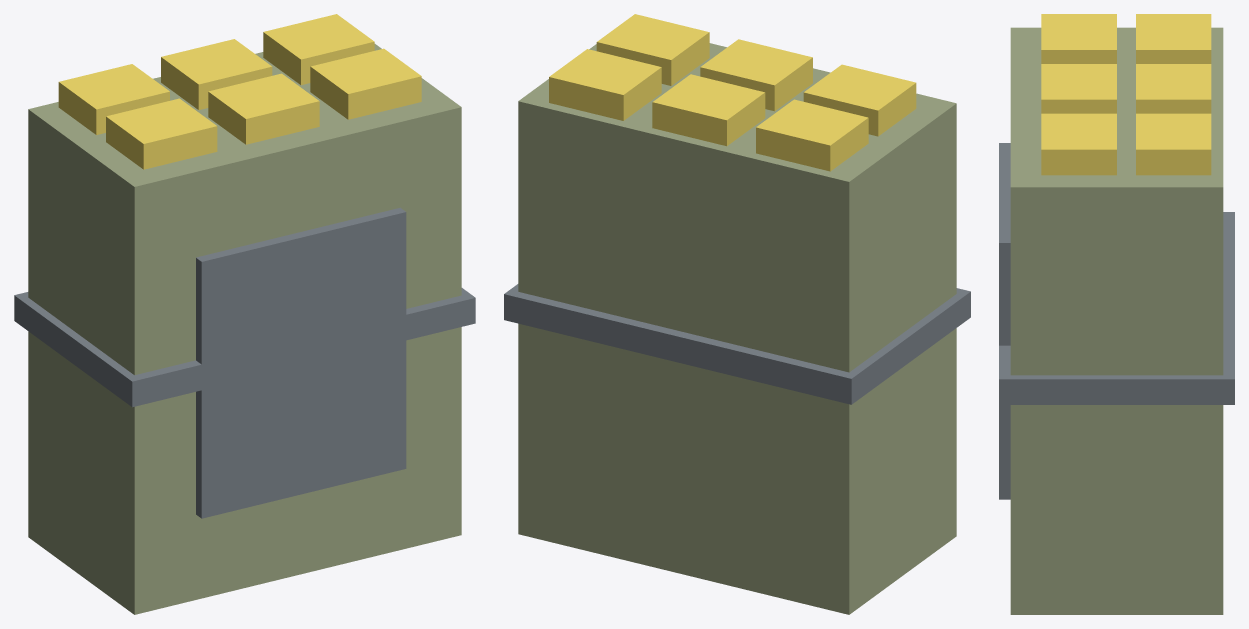
File: mech-hangar-and-battle-frames-missile-rack-pack-137a4bd7__26899.glb
The picture shows the model from 3 angles, left to right: view 1: azimuth 30°, elevation 25°; view 2: azimuth 150°, elevation 25°; view 3: azimuth 270°, elevation 25°; orthographic projection.
Visible parts, largest first — view 1: missile-rack-pack; view 2: missile-rack-pack; view 3: missile-rack-pack.
Part boxes in pixels (x1=…): missile-rack-pack: x1=14, y1=14, x2=475, y2=614; missile-rack-pack: x1=504, y1=14, x2=970, y2=614; missile-rack-pack: x1=999, y1=14, x2=1234, y2=614.
Size of the model in its own units: 0.84 by 1.06 by 0.5.
